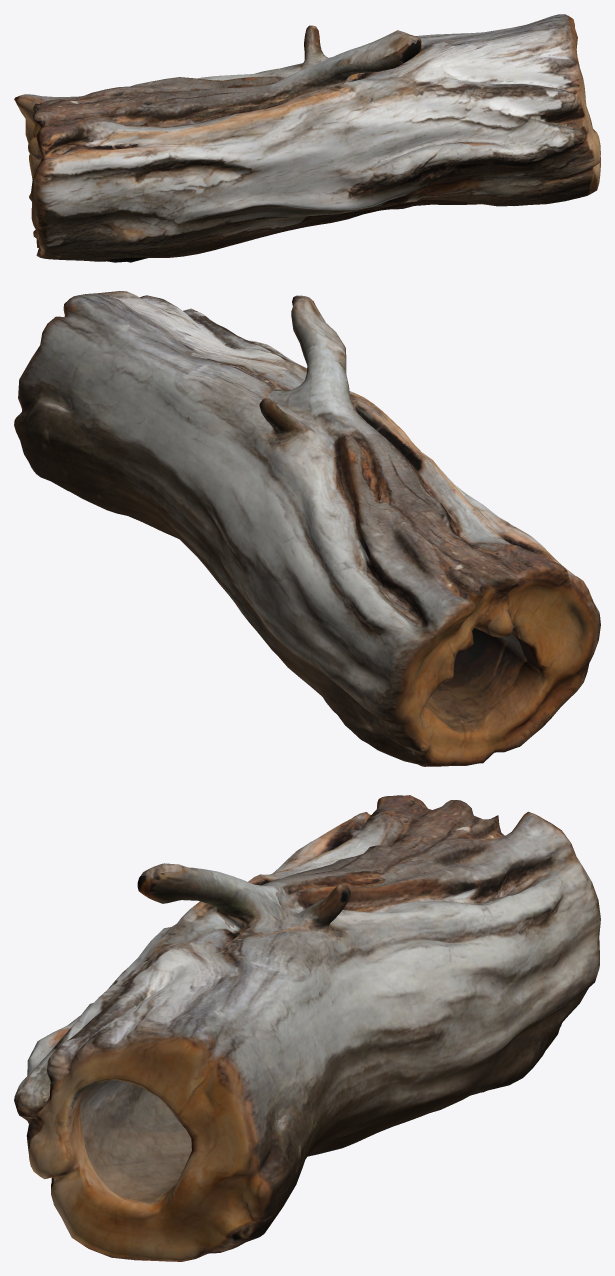
The picture shows the model from 3 angles, top to bottom: view 1: azimuth 30°, elevation 25°; view 2: azimuth 150°, elevation 25°; view 3: azimuth 270°, elevation 25°; orthographic projection. The views are drawn at different scales.
Bounding box in the file's own units: 1.98 × 0.8915 × 1.35.
Materials: 1 (1 with a texture image).
